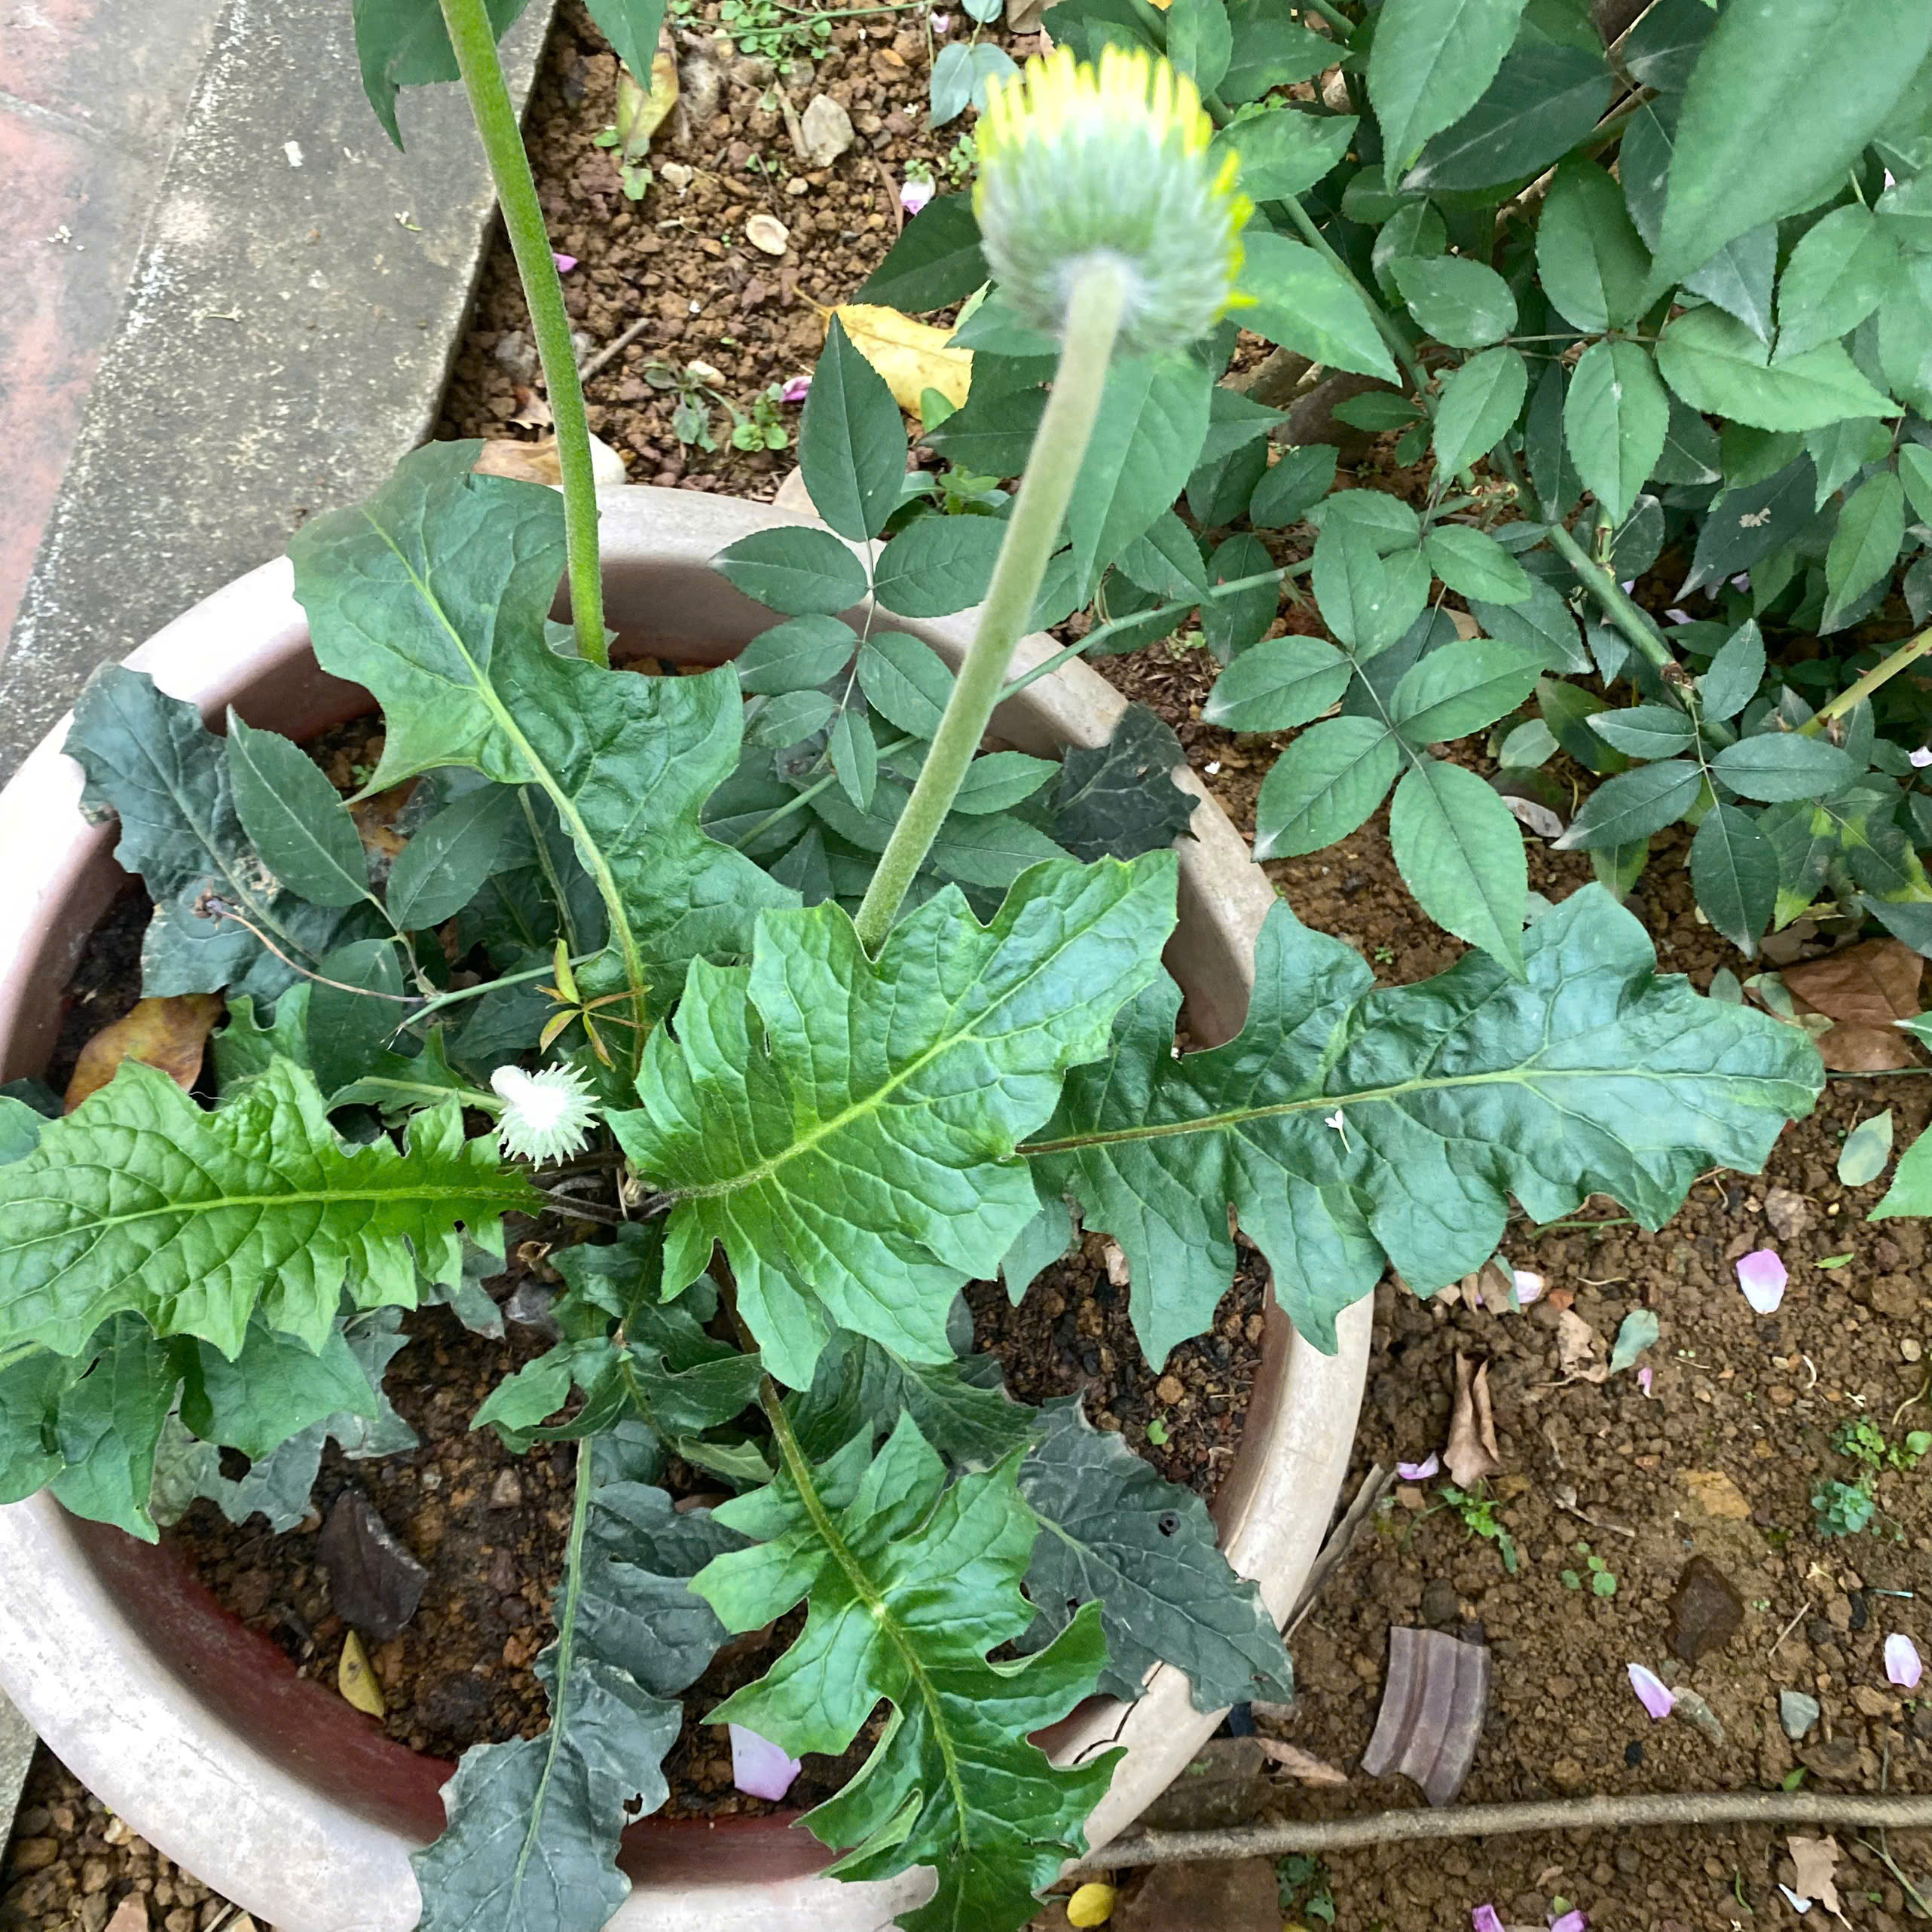hoa_huong_duong: (111, 32, 1821, 1932)
